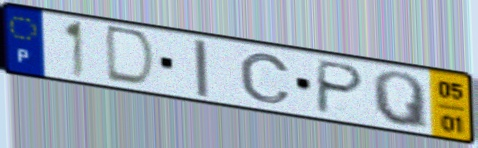1: (62, 19, 90, 82)
C: (237, 51, 295, 105)
D: (103, 23, 159, 90)
I: (191, 37, 212, 100)
P: (313, 57, 368, 116)
Q: (369, 69, 432, 133)
